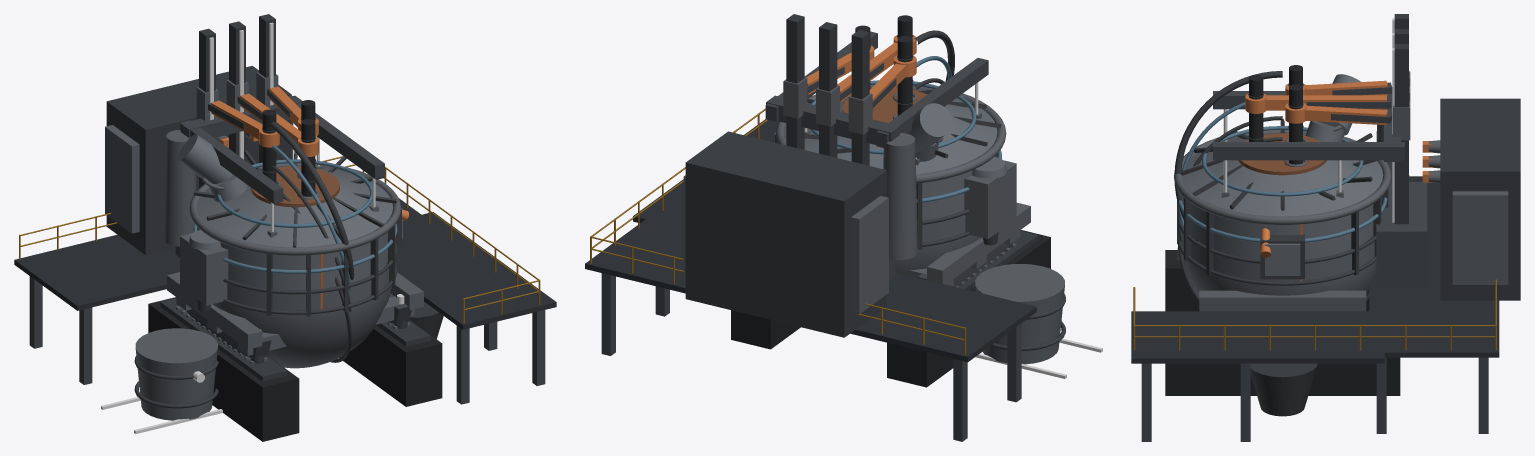
Rendered from dsp135.glb.
3 renders of one model, left to right at view 1: azimuth 30°, elevation 25°; view 2: azimuth 150°, elevation 25°; view 3: azimuth 270°, elevation 25°, orthographic. The views are drawn at different scales.
Parts seen in each view (by area): view 1: Shop_Environment, Roof_Assembly, Shell_Full, Shell_Cut, Gantry_Base, Rocker_Cradle, Phase_1, Phase_2, Phase_3, Electrode_1, Electrode_2; view 2: Shop_Environment, Roof_Assembly, Gantry_Base, Shell_Full, Shell_Cut, Rocker_Cradle, Phase_1, Phase_2, Phase_3, Electrode_1; view 3: Shop_Environment, Roof_Assembly, Shell_Full, Shell_Cut, Gantry_Base, Rocker_Cradle, Phase_3, Phase_2, Phase_1, Electrode_2, Electrode_3.
Part boxes in pixels (box(x1,y1,x2,y2)): Shop_Environment: box(14, 66, 556, 441); Roof_Assembly: box(177, 95, 401, 255); Shell_Full: box(180, 208, 408, 368); Shell_Cut: box(199, 122, 391, 362); Gantry_Base: box(164, 14, 275, 257); Rocker_Cradle: box(167, 264, 423, 358); Phase_1: box(196, 87, 279, 147); Phase_2: box(226, 79, 318, 156); Phase_3: box(256, 72, 318, 136); Electrode_1: box(262, 109, 276, 182); Electrode_2: box(300, 119, 315, 196); Shop_Environment: box(585, 108, 1102, 441); Roof_Assembly: box(765, 31, 1006, 183); Gantry_Base: box(786, 14, 917, 280); Shell_Full: box(774, 133, 1016, 273); Shell_Cut: box(895, 30, 996, 274); Rocker_Cradle: box(907, 202, 1030, 286); Phase_1: box(848, 55, 916, 134); Phase_2: box(816, 35, 916, 126); Phase_3: box(783, 45, 874, 118); Electrode_1: box(897, 36, 913, 115); Shop_Environment: box(1131, 98, 1520, 441); Roof_Assembly: box(1174, 74, 1404, 224); Shell_Full: box(1177, 189, 1388, 295); Shell_Cut: box(1174, 71, 1381, 302); Gantry_Base: box(1376, 14, 1427, 289); Rocker_Cradle: box(1199, 290, 1366, 311); Phase_3: box(1285, 101, 1410, 140); Phase_2: box(1245, 86, 1410, 113); Phase_1: box(1285, 71, 1410, 95); Electrode_2: box(1248, 74, 1263, 141); Electrode_3: box(1288, 84, 1303, 164).
Size of what is drawn, in the model's own units: 14 by 11.4 by 12.6.
